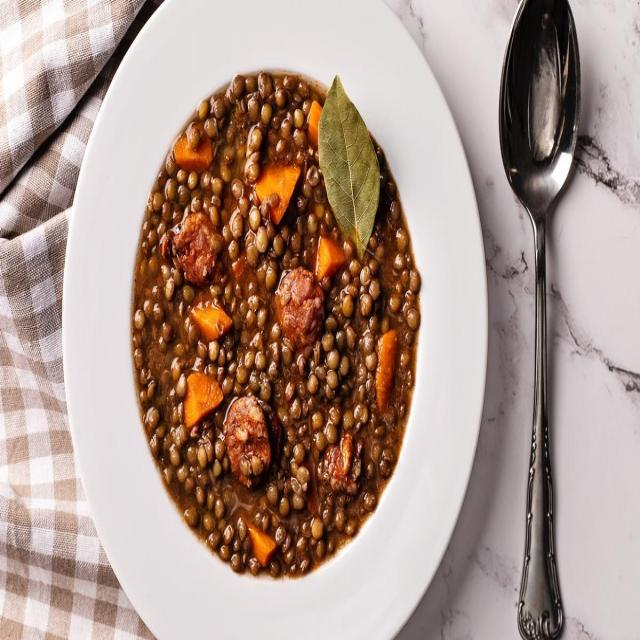lentejas: (107, 62, 423, 589)
